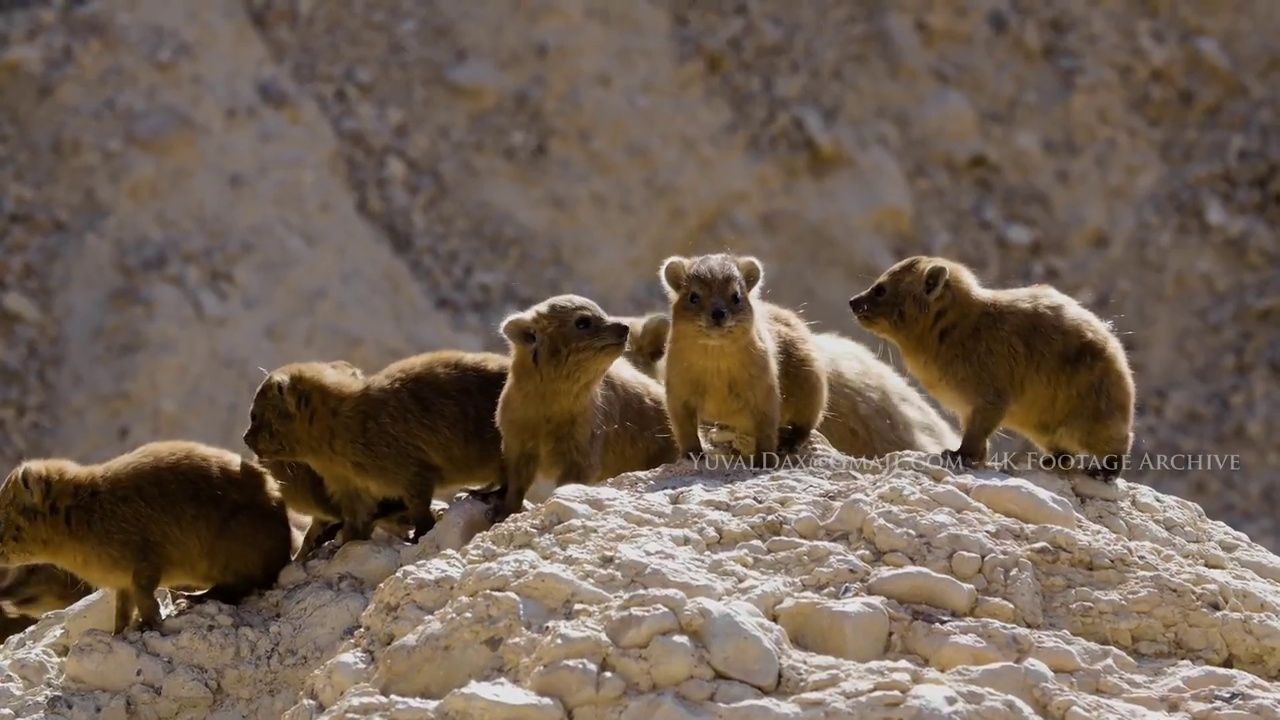Rock Hyrex: (843, 253, 1135, 484), (1, 445, 291, 631), (246, 355, 516, 544), (495, 288, 680, 510), (662, 249, 826, 472)
